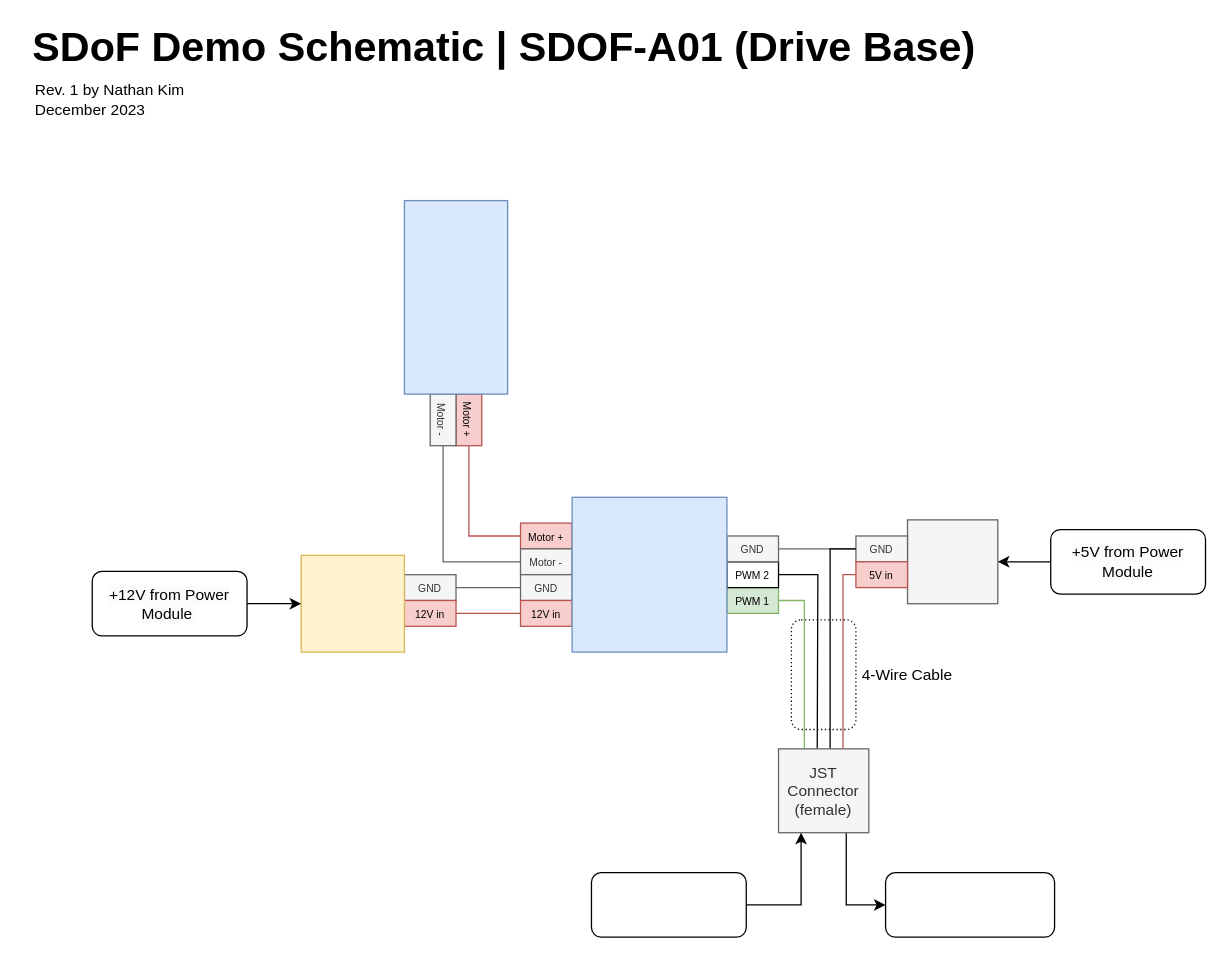
Image size: 1228x960. Some labels were removed from this diagram. The shapes that lost their labels are listed below. From the top down, each one's box as (x1, y1, x2, y2) in pixels, then its label:
(403, 199, 508, 394): DC Motor ANDYMARK-AM-0255
(571, 496, 727, 652): H-Bridge AMAZON-B07SH6BX97 (50A rated safe)
(906, 519, 998, 604): DC Barrel Jack (female)
(300, 554, 404, 652): XT60 Connector (female)
(590, 871, 746, 937): PWM from Microcontroller
(884, 871, 1055, 937): +5V to Microcontroller
